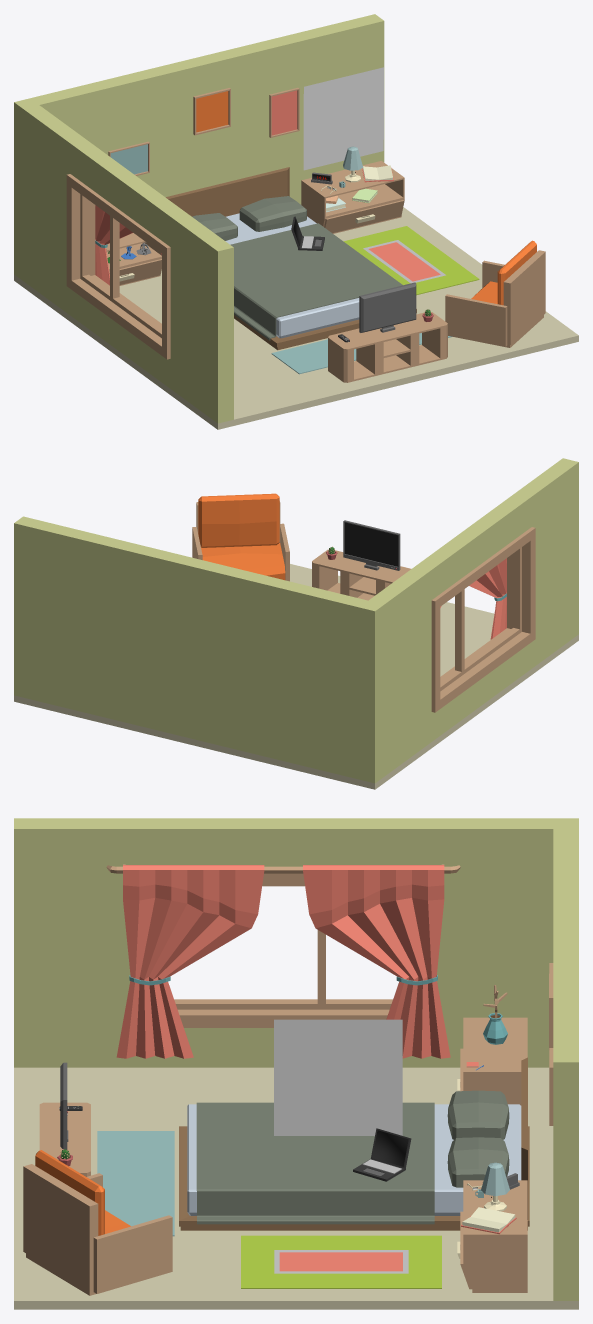
Rendered from room_new.gltf.
3 views of the same model, one above another, from view 1: azimuth 30°, elevation 25°; view 2: azimuth 150°, elevation 25°; view 3: azimuth 270°, elevation 25° (orthographic). The views are drawn at different scales.
Visible parts, largest first — view 1: LowPolyRoom, frame; view 2: LowPolyRoom; view 3: LowPolyRoom, frame.001.
Boxes of the visible parts, x1,y1,x2,y2 form: LowPolyRoom: (14, 14, 578, 429); frame: (303, 67, 383, 170); LowPolyRoom: (14, 458, 578, 789); LowPolyRoom: (14, 818, 578, 1309); frame.001: (274, 1019, 402, 1135).
Size of the model in its own units: 9.09 by 4.25 by 8.8.
1 material, 1 textured.
